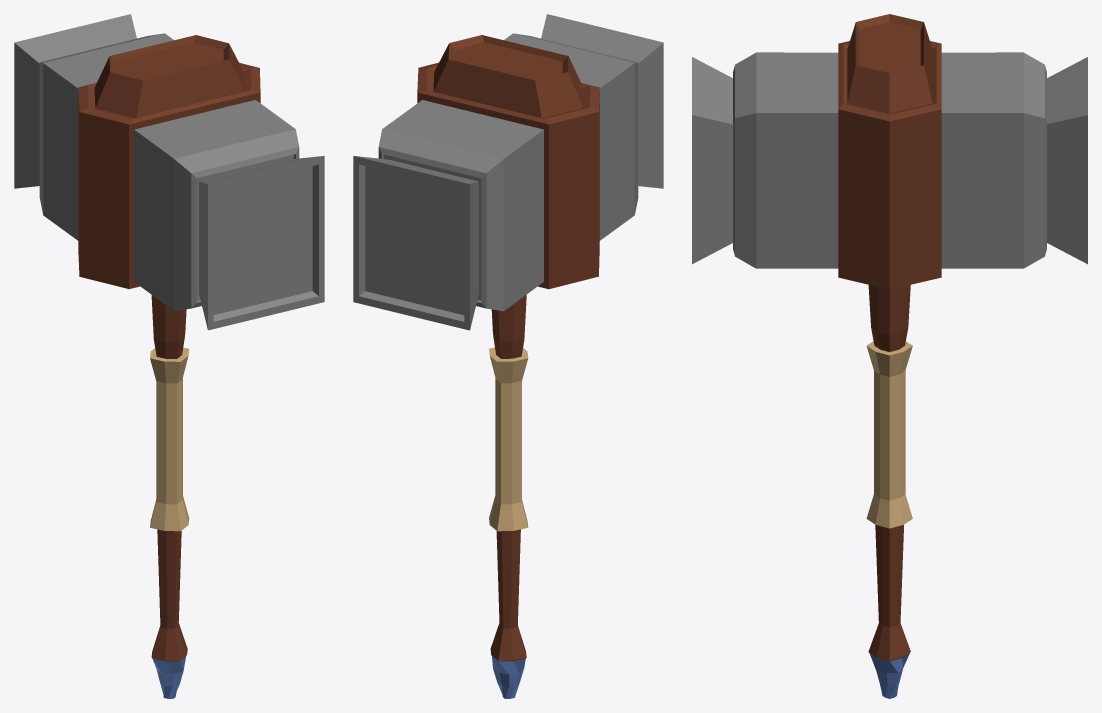
The model's file is GreatHammer.fbx.
3 renders of one model, left to right at view 1: azimuth 30°, elevation 25°; view 2: azimuth 150°, elevation 25°; view 3: azimuth 270°, elevation 25°, orthographic. The views are drawn at different scales.
Visible parts, largest first — view 1: GreatHammer; view 2: GreatHammer; view 3: GreatHammer.
Boxes of the visible parts, x1,y1,x2,y2 form: GreatHammer: (14,14,324,698); GreatHammer: (353,14,663,698); GreatHammer: (692,14,1087,698).
Bounding box in the file's own units: 70.27 × 238 × 131.
